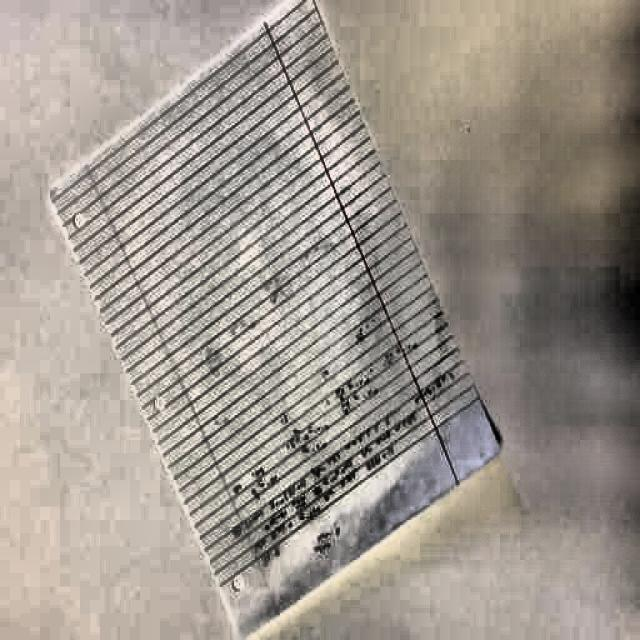paper: (51, 0, 505, 621)
